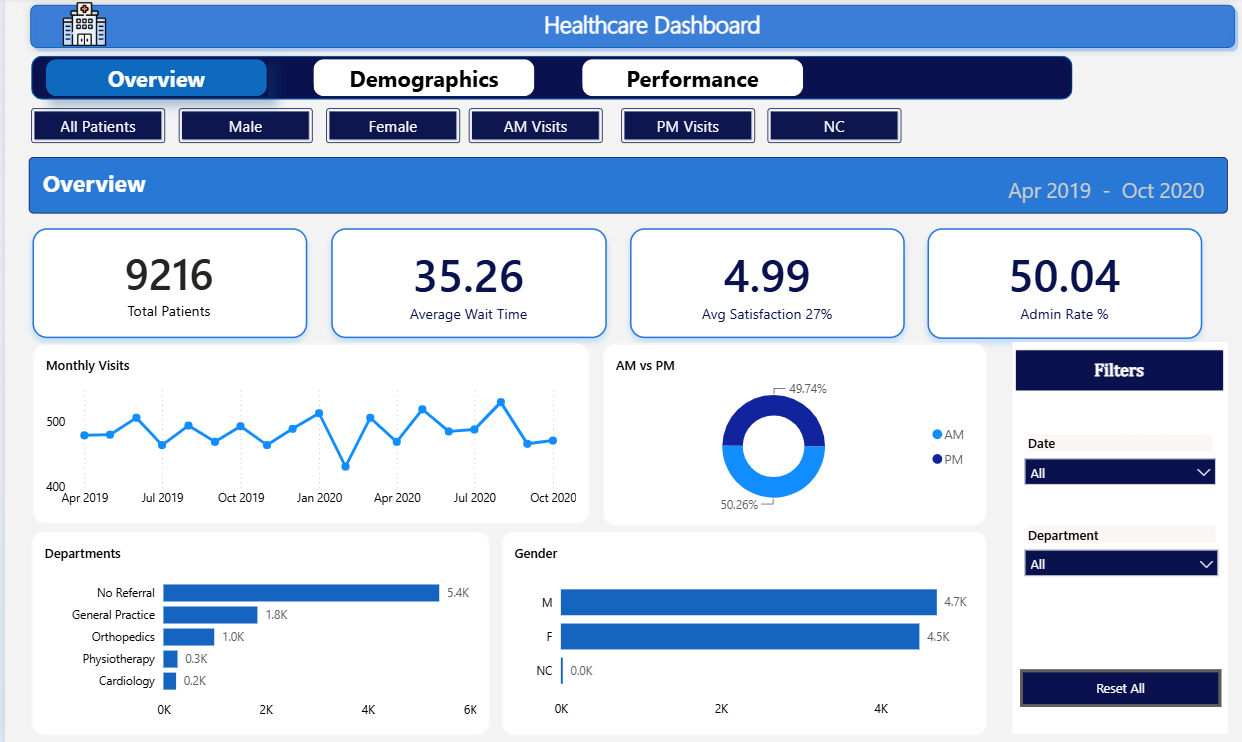

Layout of this report page (visuals, bound fields, positions):
{"tool":"powerbi","page":{"name":"Page 1 Overview","canvas":[1280,771],"ordinal":0},"visuals":[{"type":"shape","box":[18.1,0,1261.2,60.8],"z":0},{"type":"textbox","box":[265.2,0,808.5,50.4],"z":1000},{"type":"card","fields":{"Values":["Sheet1.Average Wait Time"]},"box":[337.6,239.3,284.6,113.8],"z":2000},{"type":"card","fields":{"Values":["Sheet1.Admin Rate %"]},"box":[953,239.3,283.8,114.1],"z":3000},{"type":"card","fields":{"Values":["Sheet1.Avg Satisfaction"]},"box":[645.9,239,284.2,113.7],"z":4000},{"type":"image","box":[24.6,5.2,115.1,45.3],"z":5000},{"type":"textbox","box":[24.6,165.6,1239.2,58.2],"z":6000},{"type":"lineChart","title":"  Monthly Visits","fields":{"Y":["Sheet1.Total Patients"],"Category":["Sheet1.Date.Variation.Date Hierarchy.Year","Sheet1.Date.Variation.Date Hierarchy.Month"]},"box":[28.8,357.5,576.2,187.5],"z":7000},{"type":"donutChart","title":" AM vs PM","fields":{"Y":["Sheet1.Total Patients"],"Category":["Sheet1.Moment"]},"box":[617.5,357.5,397.5,188.8],"z":8000},{"type":"barChart","title":"Departments","fields":{"Category":["Sheet1.department_referral"],"Y":["Sheet1.Total Patients"]},"box":[27.2,551.1,474.7,212.1],"z":9000},{"type":"barChart","title":"Gender","fields":{"Y":["Sheet1.Total Patients"],"Category":["Sheet1.patient_gender"]},"box":[512.9,551.6,502.5,211.9],"z":10000},{"type":"shape","box":[1041.3,357,222.5,404.9],"z":11000},{"type":"actionButton","box":[27.2,115.1,138.4,36.2],"z":14000},{"type":"actionButton","box":[179.8,115.1,138.4,36.2],"z":15000},{"type":"actionButton","box":[332.4,115.1,138.4,36.2],"z":16000},{"type":"actionButton","box":[479.9,115.1,138.4,36.2],"z":17000},{"type":"actionButton","box":[636.4,115.1,138.4,36.2],"z":18000},{"type":"actionButton","box":[787.8,115.1,138.4,36.2],"z":19000},{"type":"textbox","box":[1043.5,364.5,215.7,43.1],"z":20000},{"type":"slicer","fields":{"Values":["Sheet1.Date"]},"box":[1049,452.2,207.3,59.8],"z":21000},{"type":"slicer","fields":{"Values":["Sheet1.department_referral"]},"box":[1049,546.8,210.1,65.4],"z":23000},{"type":"shape","box":[27.2,60.8,1076.3,45.3],"z":25000},{"type":"actionButton","box":[1049,695,208,38.8],"z":26000},{"type":"actionButton","box":[41.4,63.4,230.3,40.1],"z":27000},{"type":"actionButton","box":[318.2,63.4,230.3,40.1],"z":28000},{"type":"actionButton","box":[595,63.4,230.3,40.1],"z":29000},{"type":"cardVisual","fields":{"Data":["Sheet1.Total Patients"]},"box":[28.8,238.8,283.8,113.8],"z":30000}]}

Visuals, with their boxes in screenshot pixels (x1, y1, x2, y2), scaled from the page's 1280x771 canvas onto the 1242x742 screenshot:
shape: bbox(18, 0, 1241, 59)
textbox: bbox(257, 0, 1042, 49)
card - Sheet1.Average Wait Time: bbox(328, 230, 604, 340)
card - Sheet1.Admin Rate %: bbox(925, 230, 1200, 340)
card - Sheet1.Avg Satisfaction: bbox(627, 230, 902, 339)
image: bbox(24, 5, 136, 49)
textbox: bbox(24, 159, 1226, 215)
"  Monthly Visits" lineChart: bbox(28, 344, 587, 525)
" AM vs PM" donutChart: bbox(599, 344, 985, 526)
"Departments" barChart: bbox(26, 530, 487, 734)
"Gender" barChart: bbox(498, 531, 985, 735)
shape: bbox(1010, 344, 1226, 733)
actionButton: bbox(26, 111, 161, 146)
actionButton: bbox(174, 111, 309, 146)
actionButton: bbox(323, 111, 457, 146)
actionButton: bbox(466, 111, 600, 146)
actionButton: bbox(618, 111, 752, 146)
actionButton: bbox(764, 111, 899, 146)
textbox: bbox(1013, 351, 1222, 392)
slicer - Sheet1.Date: bbox(1018, 435, 1219, 493)
slicer - Sheet1.department_referral: bbox(1018, 526, 1222, 589)
shape: bbox(26, 59, 1071, 102)
actionButton: bbox(1018, 669, 1220, 706)
actionButton: bbox(40, 61, 264, 100)
actionButton: bbox(309, 61, 532, 100)
actionButton: bbox(577, 61, 801, 100)
cardVisual - Sheet1.Total Patients: bbox(28, 230, 303, 339)
